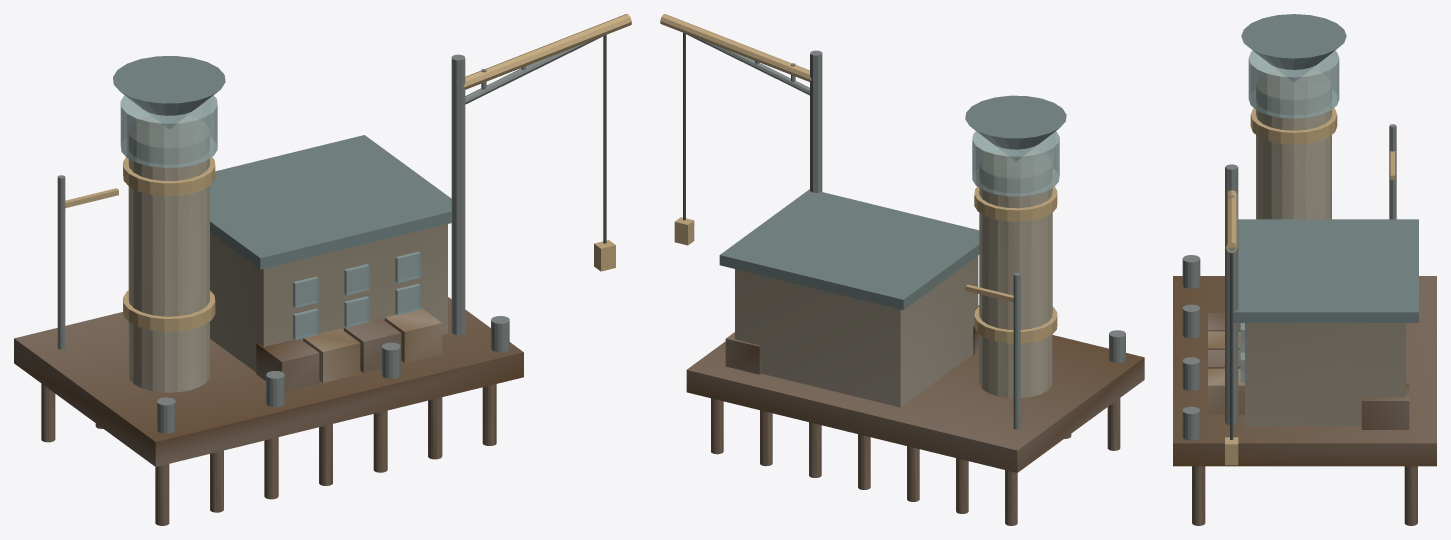
The model's file is arrival-harbor.glb.
The picture shows the model from 3 angles, left to right: view 1: azimuth 30°, elevation 25°; view 2: azimuth 150°, elevation 25°; view 3: azimuth 270°, elevation 25°; orthographic projection. The views are drawn at different scales.
Visible parts, largest first — view 1: dock_base, warehouse_roof, warehouse, arrival_tower, lantern_room, tower_cap, crane_mast, cargo_0, crane_boom, cargo_1, cargo_3, cargo_2 (+19 smaller); view 2: dock_base, warehouse, warehouse_roof, arrival_tower, lantern_room, tower_cap, crane_boom, crane_mast, tower_band_high, tower_band_low, signal_mast, cargo_4 (+10 smaller); view 3: warehouse_roof, dock_base, warehouse, arrival_tower, lantern_room, tower_cap, crane_mast, cargo_4, tower_band_high, cargo_3, pile_2.4, pile_back_2.4 (+11 smaller).
Boxes of the visible parts, x1=… form: dock_base: x1=14, y1=297, x2=523, y2=466; warehouse_roof: x1=210, y1=135, x2=451, y2=269; warehouse: x1=210, y1=224, x2=447, y2=372; arrival_tower: x1=128, y1=116, x2=209, y2=392; lantern_room: x1=120, y1=95, x2=217, y2=167; tower_cap: x1=113, y1=56, x2=225, y2=128; crane_mast: x1=451, y1=54, x2=465, y2=334; cargo_0: x1=256, y1=339, x2=319, y2=392; crane_boom: x1=463, y1=14, x2=631, y2=89; cargo_1: x1=303, y1=328, x2=360, y2=382; cargo_3: x1=384, y1=308, x2=442, y2=362; cargo_2: x1=344, y1=318, x2=401, y2=372; dock_base: x1=686, y1=335, x2=1144, y2=472; warehouse: x1=735, y1=256, x2=978, y2=407; warehouse_roof: x1=719, y1=189, x2=979, y2=309; arrival_tower: x1=979, y1=150, x2=1052, y2=398; lantern_room: x1=972, y1=131, x2=1059, y2=196; tower_cap: x1=965, y1=95, x2=1066, y2=161; crane_boom: x1=660, y1=14, x2=811, y2=81; crane_mast: x1=810, y1=50, x2=822, y2=192; tower_band_high: x1=974, y1=186, x2=1057, y2=221; tower_band_low: x1=974, y1=307, x2=1057, y2=343; signal_mast: x1=1013, y1=273, x2=1020, y2=429; cargo_4: x1=725, y1=332, x2=760, y2=374; warehouse_roof: x1=1233, y1=219, x2=1418, y2=322; dock_base: x1=1173, y1=276, x2=1436, y2=466; warehouse: x1=1245, y1=323, x2=1405, y2=425; arrival_tower: x1=1256, y1=70, x2=1331, y2=219; lantern_room: x1=1248, y1=51, x2=1339, y2=118; tower_cap: x1=1241, y1=14, x2=1346, y2=81; crane_mast: x1=1225, y1=164, x2=1238, y2=424; cargo_4: x1=1361, y1=384, x2=1409, y2=429; tower_band_high: x1=1250, y1=108, x2=1337, y2=144; cargo_3: x1=1208, y1=368, x2=1244, y2=414; pile_2.4: x1=1192, y1=466, x2=1205, y2=525; pile_back_2.4: x1=1404, y1=466, x2=1417, y2=525.
Bounding box in the file's own units: 7.41 × 5.49 × 3.6.
